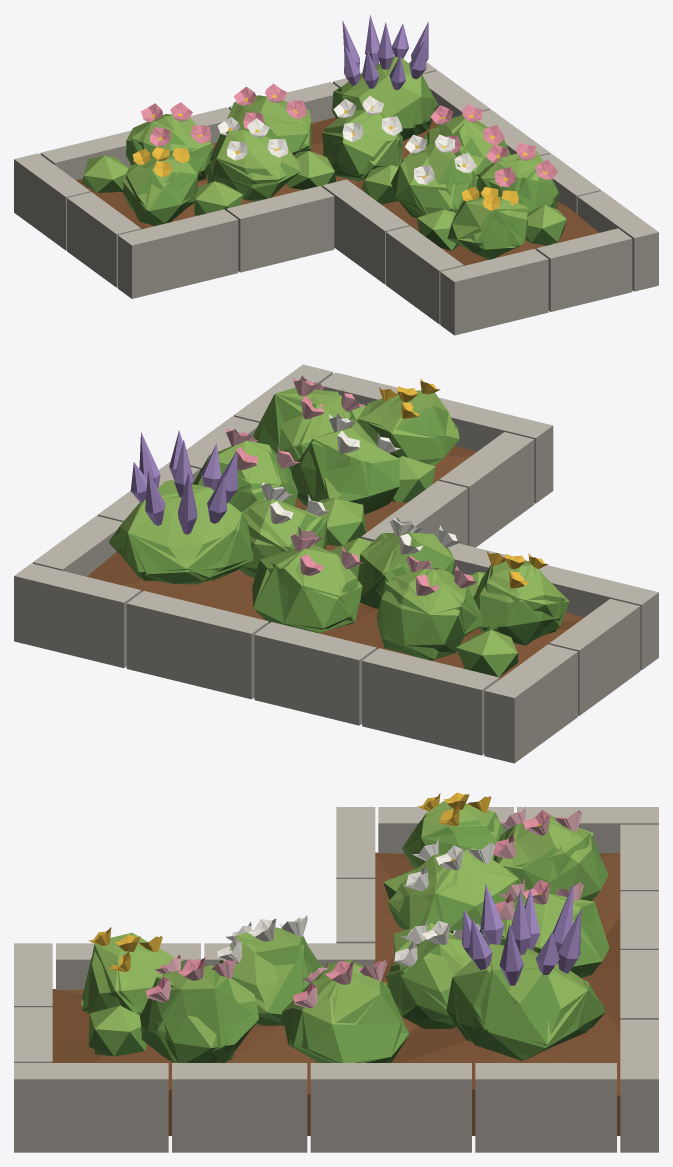
File: FMS_Garden_Bed_Corner_Planted.fbx
The picture shows the model from 3 angles, top to bottom: view 1: azimuth 30°, elevation 25°; view 2: azimuth 150°, elevation 25°; view 3: azimuth 270°, elevation 25°; orthographic projection. The views are drawn at different scales.
Visible parts, largest first — view 1: FMS_Garden_Bed_Corner_Planted_Foliage, FMS_Garden_Bed_Corner_Planted_Border_LeftInner, FMS_Garden_Bed_Corner_Planted_Border_FrontInner, FMS_Garden_Bed_Corner_Planted_Foliage_Low1, FMS_Garden_Bed_Corner_Planted_Flowers, FMS_Garden_Bed_Corner_Planted_Border_Right, FMS_Garden_Bed_Corner_Planted_Flowers_Low1, FMS_Garden_Bed_Corner_Planted_Border_Back, FMS_Garden_Bed_Corner_Planted_Soil; view 2: FMS_Garden_Bed_Corner_Planted_Foliage, FMS_Garden_Bed_Corner_Planted_Border_Back, FMS_Garden_Bed_Corner_Planted_Border_LeftInner, FMS_Garden_Bed_Corner_Planted_Foliage_Low1, FMS_Garden_Bed_Corner_Planted_Border_FrontInner, FMS_Garden_Bed_Corner_Planted_Flowers, FMS_Garden_Bed_Corner_Planted_Soil, FMS_Garden_Bed_Corner_Planted_Border_Right, FMS_Garden_Bed_Corner_Planted_Flowers_Low1; view 3: FMS_Garden_Bed_Corner_Planted_Border_Right, FMS_Garden_Bed_Corner_Planted_Foliage, FMS_Garden_Bed_Corner_Planted_Foliage_Low1, FMS_Garden_Bed_Corner_Planted_Soil, FMS_Garden_Bed_Corner_Planted_Flowers, FMS_Garden_Bed_Corner_Planted_Border_Back, FMS_Garden_Bed_Corner_Planted_Border_LeftInner, FMS_Garden_Bed_Corner_Planted_Border_FrontInner, FMS_Garden_Bed_Corner_Planted_Flowers_Low1.
Part boxes in pixels (x1=…): FMS_Garden_Bed_Corner_Planted_Foliage: x1=82, y1=58, x2=566, y2=259; FMS_Garden_Bed_Corner_Planted_Border_LeftInner: x1=14, y1=153, x2=334, y2=298; FMS_Garden_Bed_Corner_Planted_Border_FrontInner: x1=322, y1=179, x2=632, y2=335; FMS_Garden_Bed_Corner_Planted_Foliage_Low1: x1=122, y1=56, x2=557, y2=259; FMS_Garden_Bed_Corner_Planted_Flowers: x1=132, y1=15, x2=557, y2=210; FMS_Garden_Bed_Corner_Planted_Border_Right: x1=422, y1=70, x2=658, y2=291; FMS_Garden_Bed_Corner_Planted_Flowers_Low1: x1=133, y1=89, x2=553, y2=210; FMS_Garden_Bed_Corner_Planted_Border_Back: x1=40, y1=62, x2=436, y2=180; FMS_Garden_Bed_Corner_Planted_Soil: x1=76, y1=117, x2=599, y2=265; FMS_Garden_Bed_Corner_Planted_Foliage: x1=109, y1=387, x2=566, y2=677; FMS_Garden_Bed_Corner_Planted_Border_Back: x1=14, y1=563, x2=499, y2=755; FMS_Garden_Bed_Corner_Planted_Border_LeftInner: x1=448, y1=543, x2=658, y2=763; FMS_Garden_Bed_Corner_Planted_Foliage_Low1: x1=109, y1=389, x2=569, y2=659; FMS_Garden_Bed_Corner_Planted_Border_FrontInner: x1=320, y1=372, x2=553, y2=547; FMS_Garden_Bed_Corner_Planted_Flowers: x1=130, y1=376, x2=548, y2=595; FMS_Garden_Bed_Corner_Planted_Soil: x1=87, y1=446, x2=583, y2=679; FMS_Garden_Bed_Corner_Planted_Border_Right: x1=32, y1=364, x2=332, y2=576; FMS_Garden_Bed_Corner_Planted_Flowers_Low1: x1=226, y1=381, x2=543, y2=595; FMS_Garden_Bed_Corner_Planted_Border_Right: x1=14, y1=1063, x2=616, y2=1152; FMS_Garden_Bed_Corner_Planted_Foliage: x1=81, y1=801, x2=609, y2=1062; FMS_Garden_Bed_Corner_Planted_Foliage_Low1: x1=82, y1=800, x2=609, y2=1062; FMS_Garden_Bed_Corner_Planted_Soil: x1=52, y1=852, x2=620, y2=1135; FMS_Garden_Bed_Corner_Planted_Flowers: x1=88, y1=792, x2=583, y2=1007; FMS_Garden_Bed_Corner_Planted_Border_Back: x1=620, y1=824, x2=658, y2=1152; FMS_Garden_Bed_Corner_Planted_Border_LeftInner: x1=336, y1=807, x2=658, y2=943; FMS_Garden_Bed_Corner_Planted_Border_FrontInner: x1=14, y1=943, x2=375, y2=1062; FMS_Garden_Bed_Corner_Planted_Flowers_Low1: x1=93, y1=794, x2=583, y2=1007.
Size of the model in its own units: 2 by 0.7 by 2.
